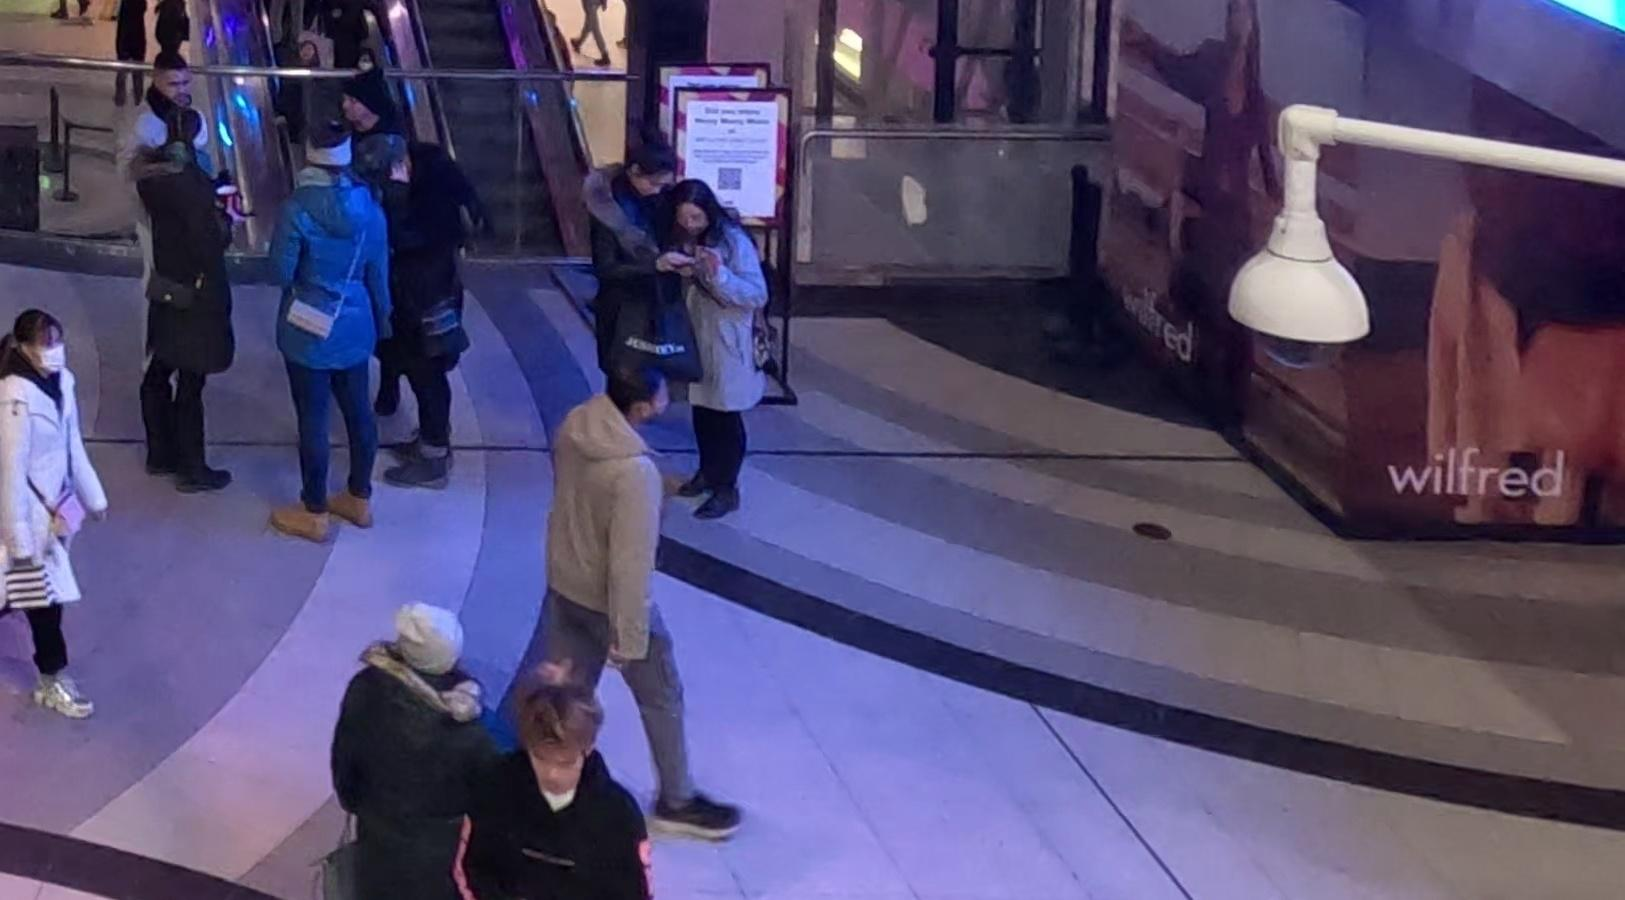person: (526, 375, 743, 847), (315, 599, 521, 900), (269, 123, 408, 545), (112, 104, 238, 504), (1, 301, 118, 719), (458, 696, 671, 900), (368, 126, 485, 491), (670, 178, 787, 536)
